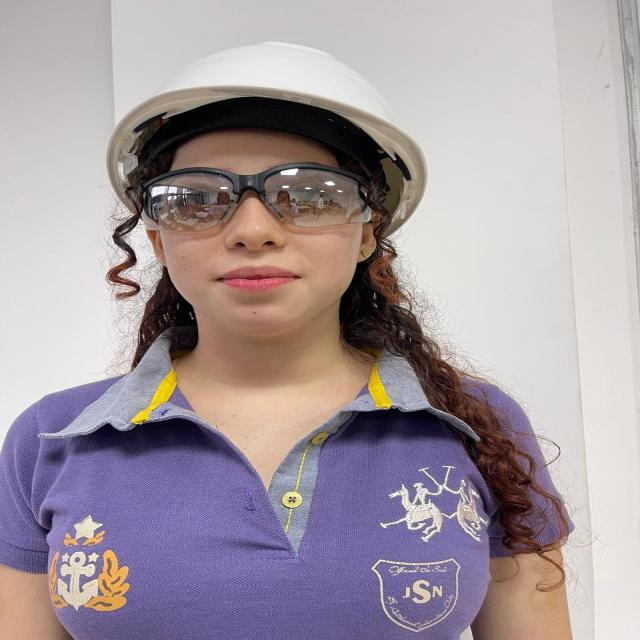helmet: (107, 42, 426, 237)
protective_glasses: (141, 164, 372, 232)
